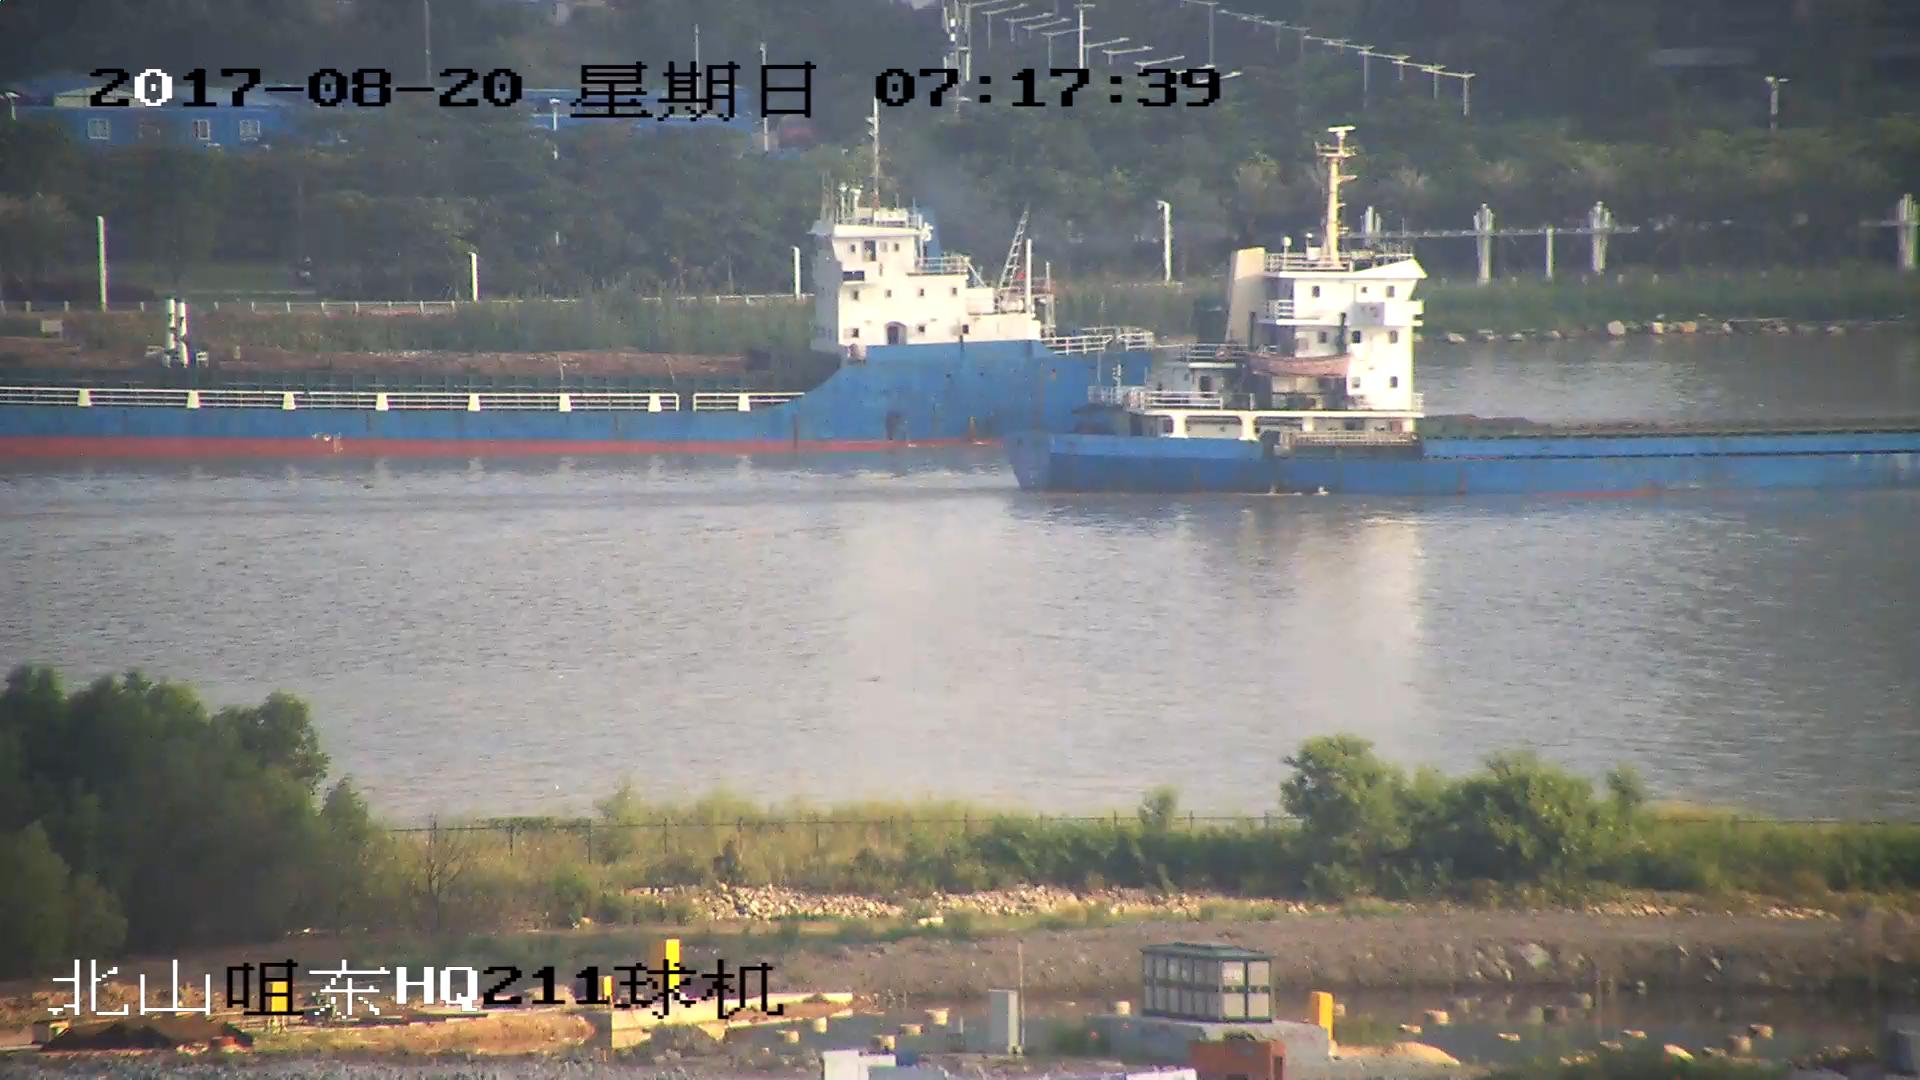general cargo ship: (1015, 134, 1920, 493), (1, 191, 1007, 450)
